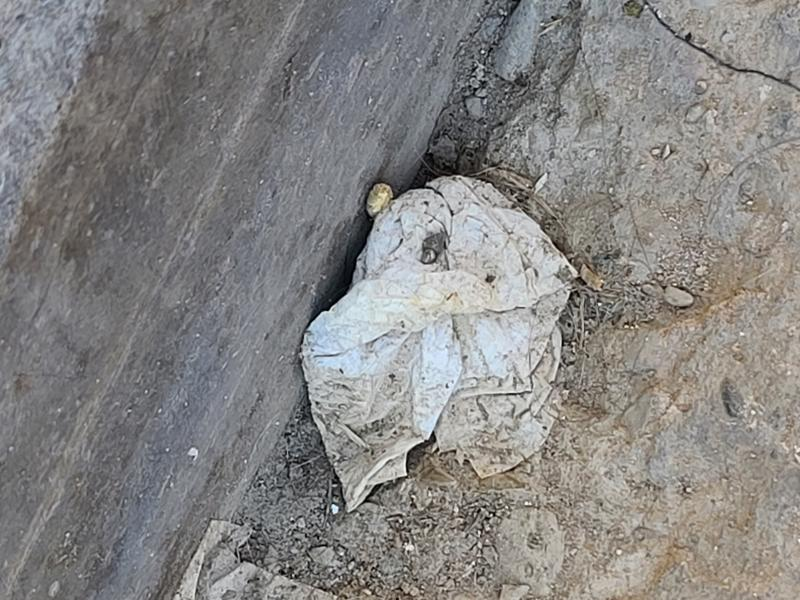papel: (299, 176, 581, 514)
